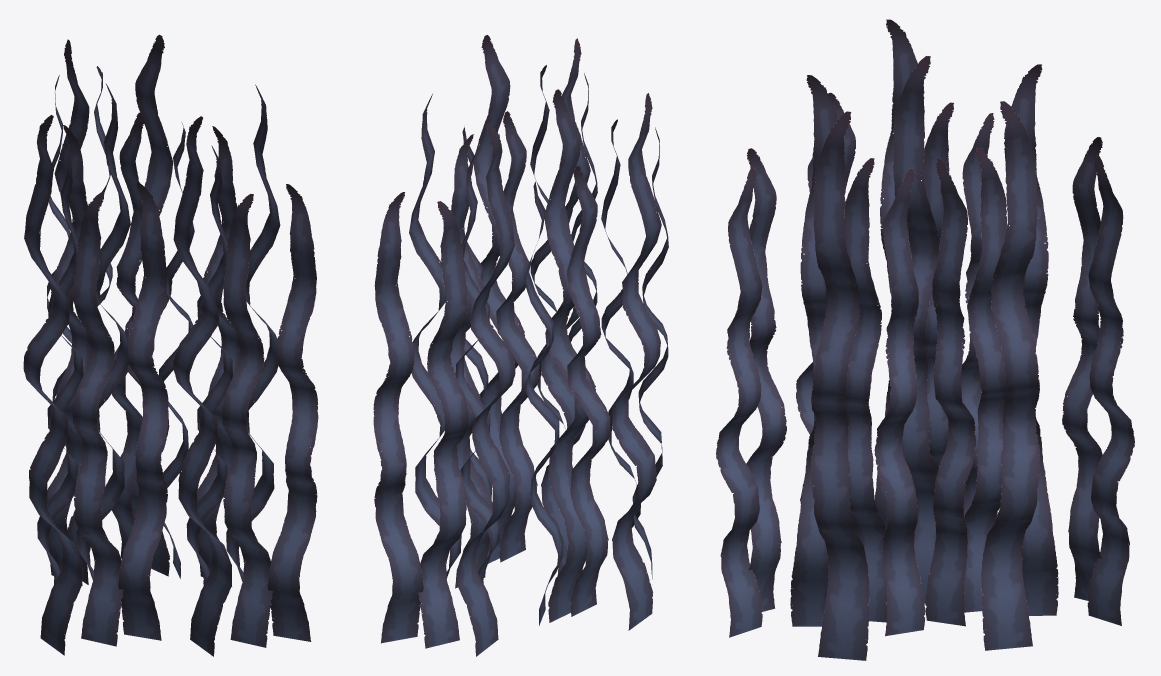
File: Sunken Tomb Wavy Kelp Big.fbx
3 renders of one model, left to right at view 1: azimuth 30°, elevation 25°; view 2: azimuth 150°, elevation 25°; view 3: azimuth 270°, elevation 25°, orthographic. The views are drawn at different scales.
Parts seen in each view (by area): view 1: Wavy Kelp Big; view 2: Wavy Kelp Big; view 3: Wavy Kelp Big.
Part boxes in pixels (left/top/right/bottom): Wavy Kelp Big: left=23, top=34, right=318, bottom=656; Wavy Kelp Big: left=373, top=35, right=668, bottom=656; Wavy Kelp Big: left=716, top=19, right=1134, bottom=660.
Size of the model in its own units: 625 by 1503 by 1083.
